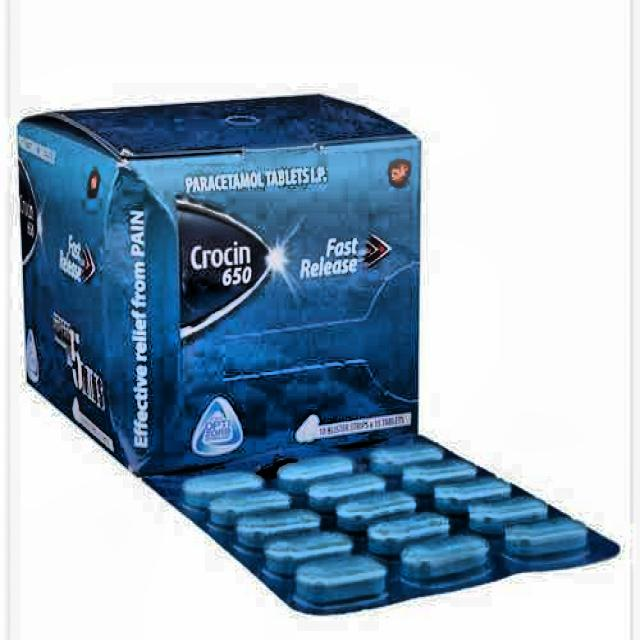Crocin: (107, 155, 420, 456)
